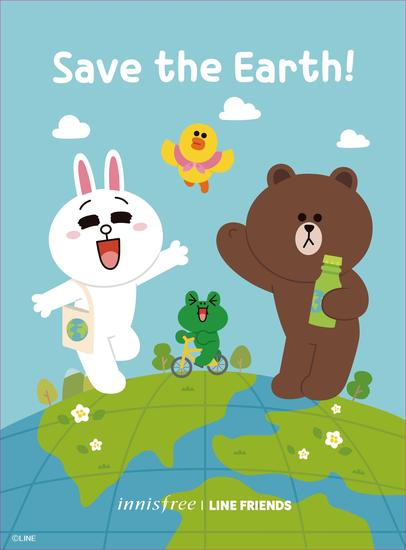line_brown: (238, 156, 379, 288)
